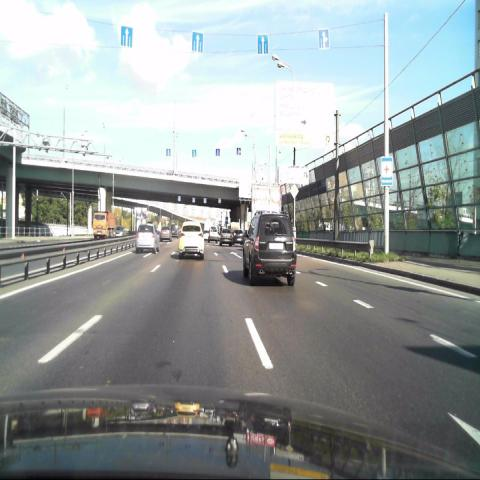5_15_2: (257, 33, 269, 55)
